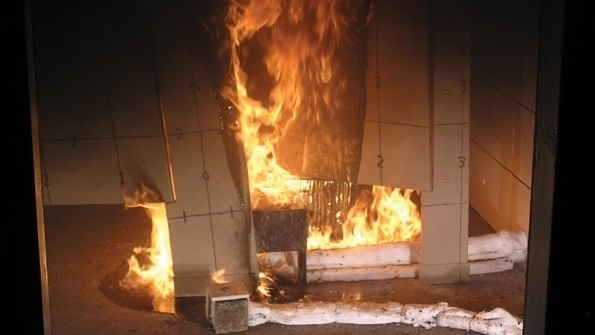fire: (122, 0, 427, 305), (122, 187, 172, 306)
